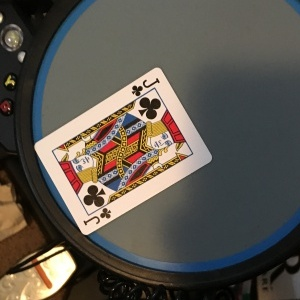card: (33, 64, 213, 236)
